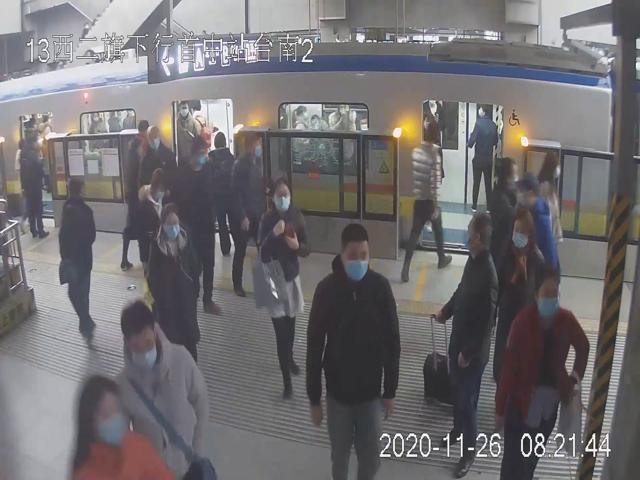person: (306, 222, 401, 480), (440, 209, 500, 480), (257, 180, 304, 396), (148, 202, 204, 369), (404, 126, 451, 283), (58, 177, 97, 341)
